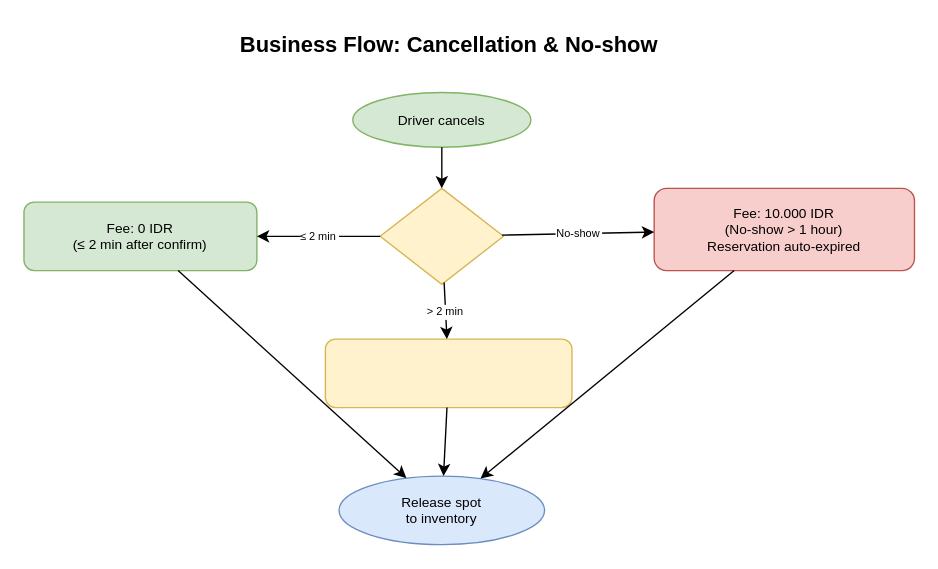
The diagram is 938 pixels wide and 569 high, and some of its shapes have lost their labels. Each missing label, with the centre of its shape:
"Fee: 5.000 IDR (> 2 min, before check-in)" belongs at pixel 448 373.
"When?" belongs at pixel 441 235.
